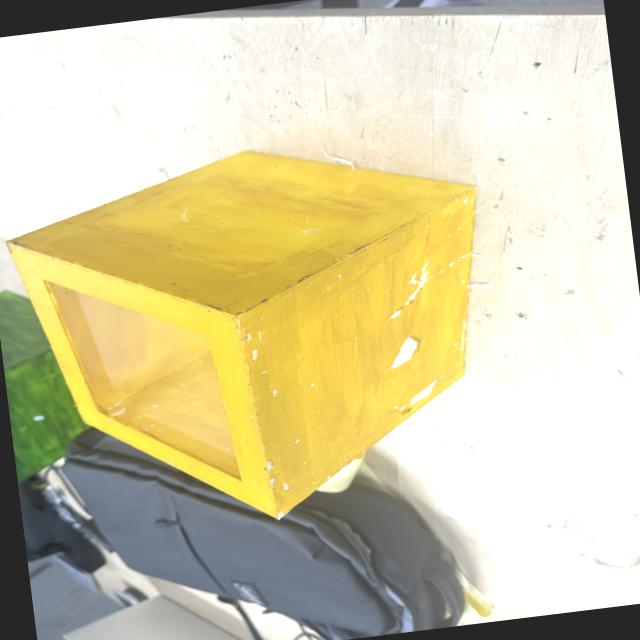yellow_bin: (0, 122, 513, 548)
